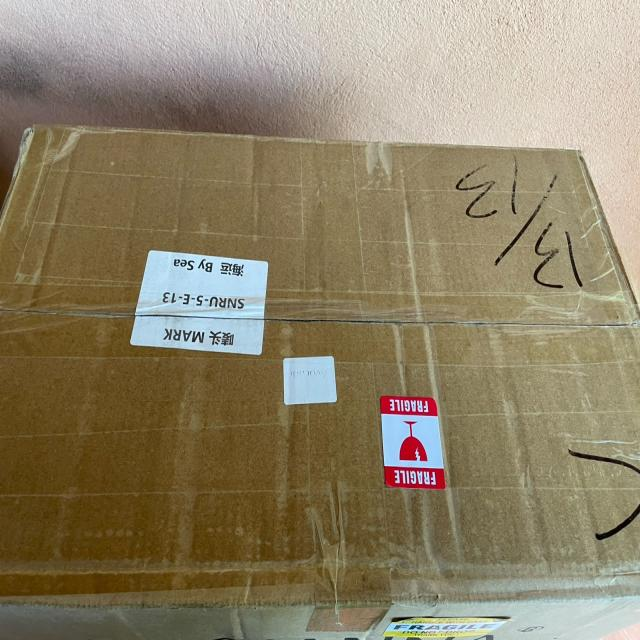carton_box: (4, 115, 640, 640)
export_mark_label: (127, 238, 275, 360)
fragile_label: (374, 380, 453, 508)
